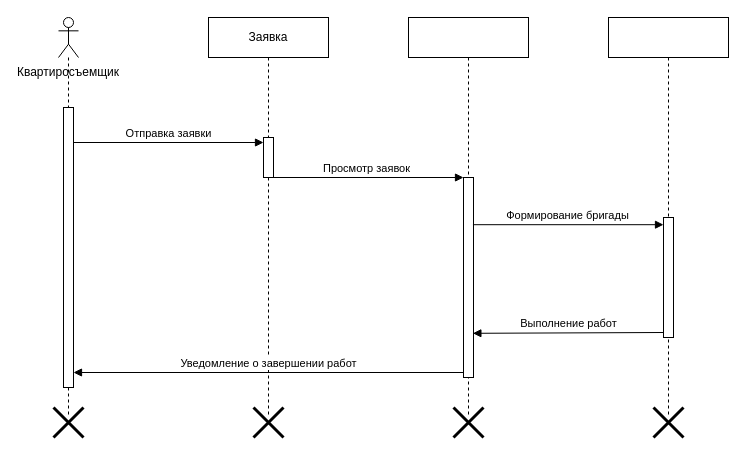
Some shapes in this 746 by 456 pixel diagram are drawn without their labels. The centre of each missing label's shape, as x and y in pixels:
Бригада: the point at 668,217
Диспетчер: the point at 468,217
